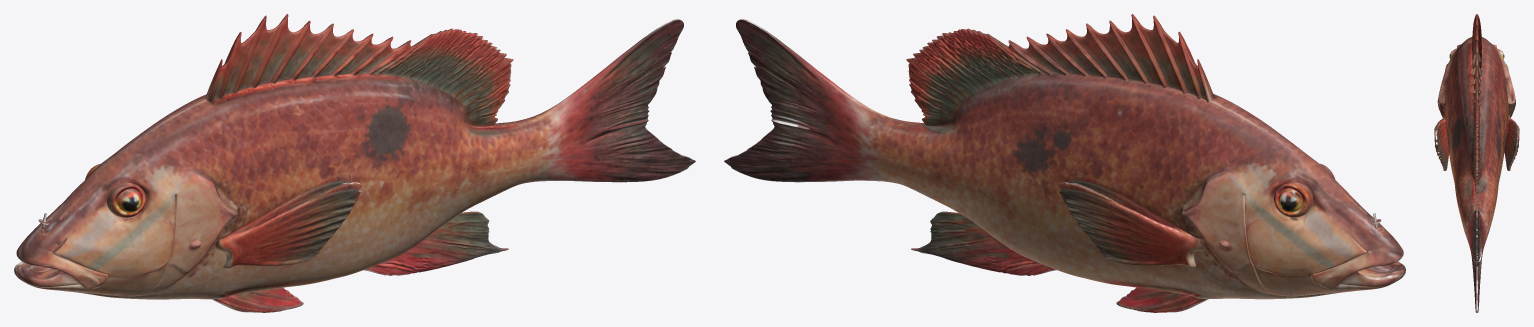
File: pargo.glb
3 renders of one model, left to right at view 1: azimuth 30°, elevation 25°; view 2: azimuth 150°, elevation 25°; view 3: azimuth 270°, elevation 25°, orthographic. The views are drawn at different scales.
Parts seen in each view (by area): view 1: Pargo; view 2: Pargo; view 3: Pargo.
Part boxes in pixels (x1,y1,x2,y2): Pargo: [14, 14, 695, 312]; Pargo: [724, 14, 1405, 312]; Pargo: [1434, 14, 1519, 312].
Bounding box in the file's own units: 1.15 × 0.4791 × 0.1953.
Materials: 1 (1 with a texture image).
